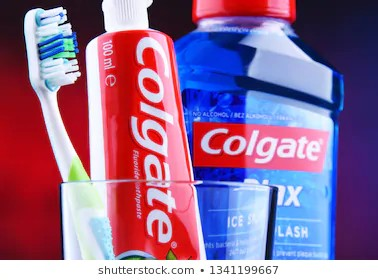colgate-Plax: (170, 1, 341, 259)
toothbrush: (16, 8, 118, 258)
